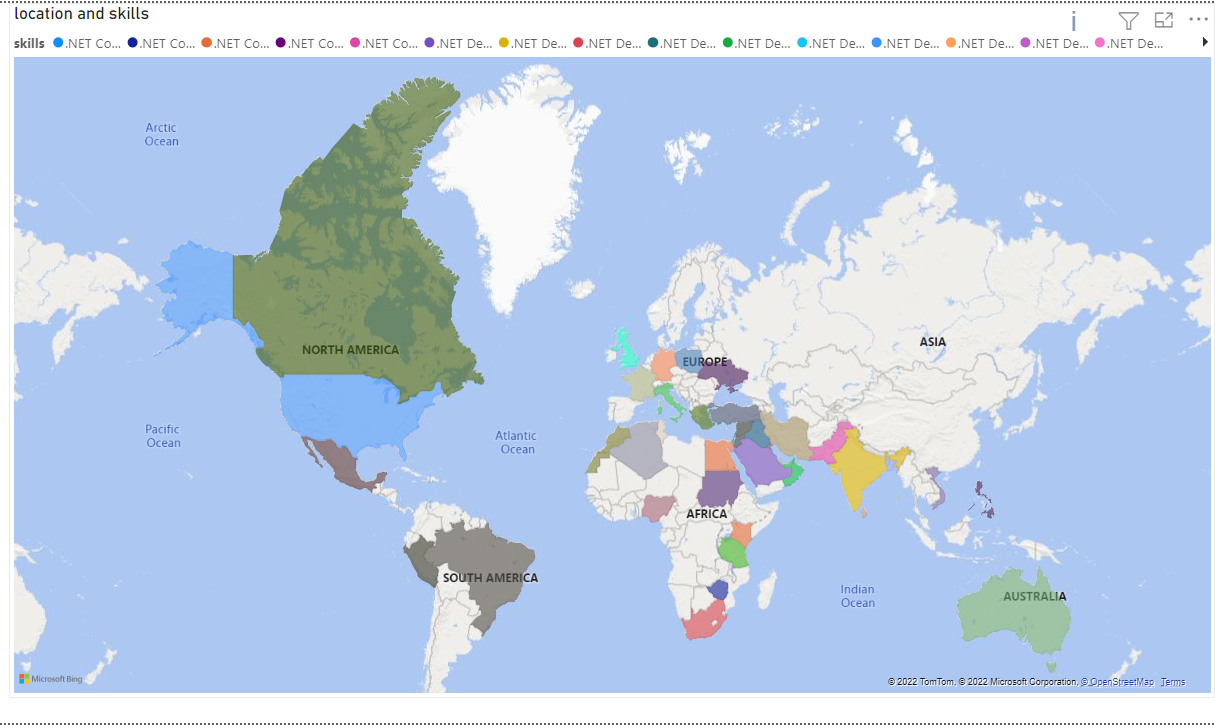

The dashboard page shown, as its layout file describes it:
{"tool":"powerbi","page":{"name":"Page 2","canvas":[1280,720],"ordinal":1},"visuals":[{"type":"filledMap","fields":{"Category":["MiddleEastFreelancers_cleaning.location"],"Series":["MiddleEastFreelancers_cleaning.skills"]},"box":[9.8,0,1206.5,695.6],"z":0}]}

Visuals, with their boxes on the page's 1280x720 design canvas (x1, y1, x2, y2). These are canvas units, not pixel positions in the 1215x728 screenshot, which may show the page scaled, cropped or inside an application window:
filledMap - MiddleEastFreelancers_cleaning.location x MiddleEastFreelancers_cleaning.skills: Rect(10, 0, 1216, 696)
